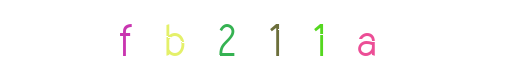1: (226, 0, 306, 80), (228, 0, 308, 80)
2: (225, 0, 305, 80)
A: (236, 0, 316, 80)
B: (190, 0, 270, 80)
F: (135, 0, 215, 80)
